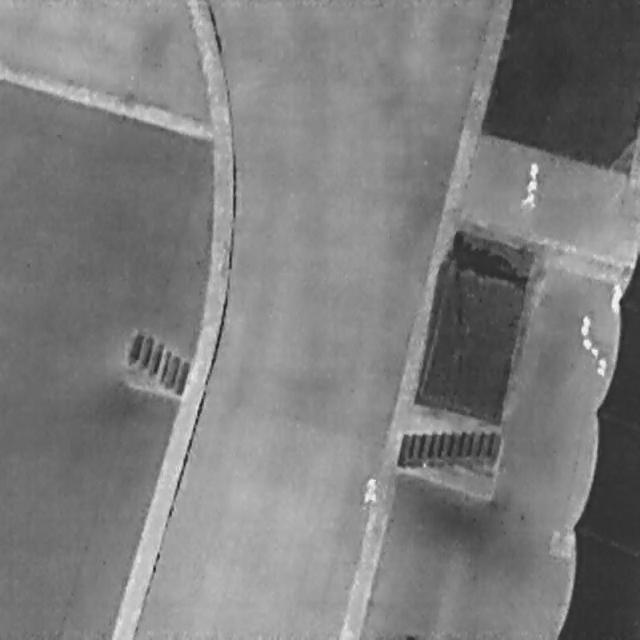Person: (518, 180, 538, 210), (607, 278, 622, 318), (362, 475, 377, 504), (528, 158, 539, 188)
